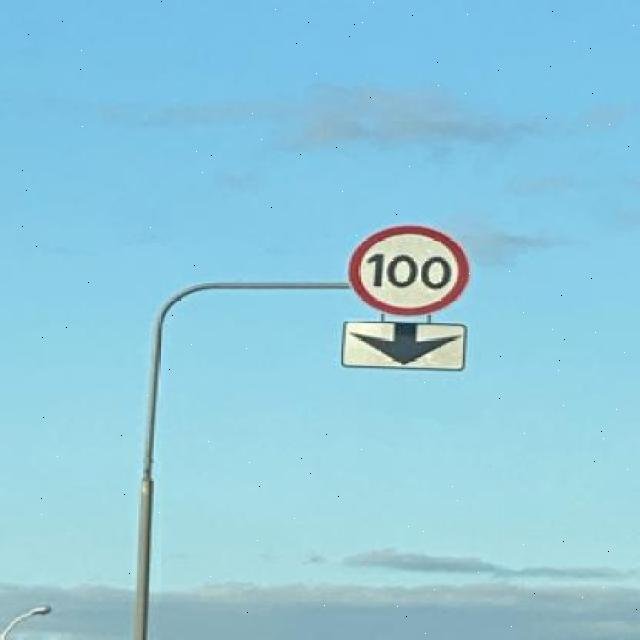speed limit 100: (347, 223, 471, 316)
